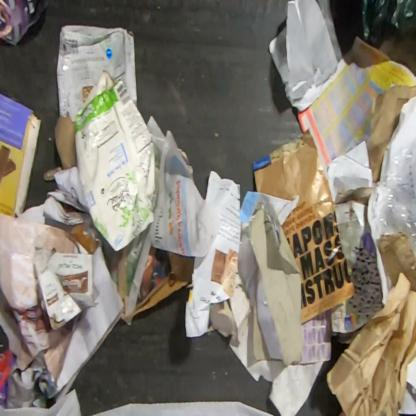cardboard: (74, 67, 157, 252), (56, 24, 138, 123), (34, 247, 96, 331), (54, 116, 77, 169)
soft_plastic: (373, 137, 415, 262), (360, 0, 415, 52)
